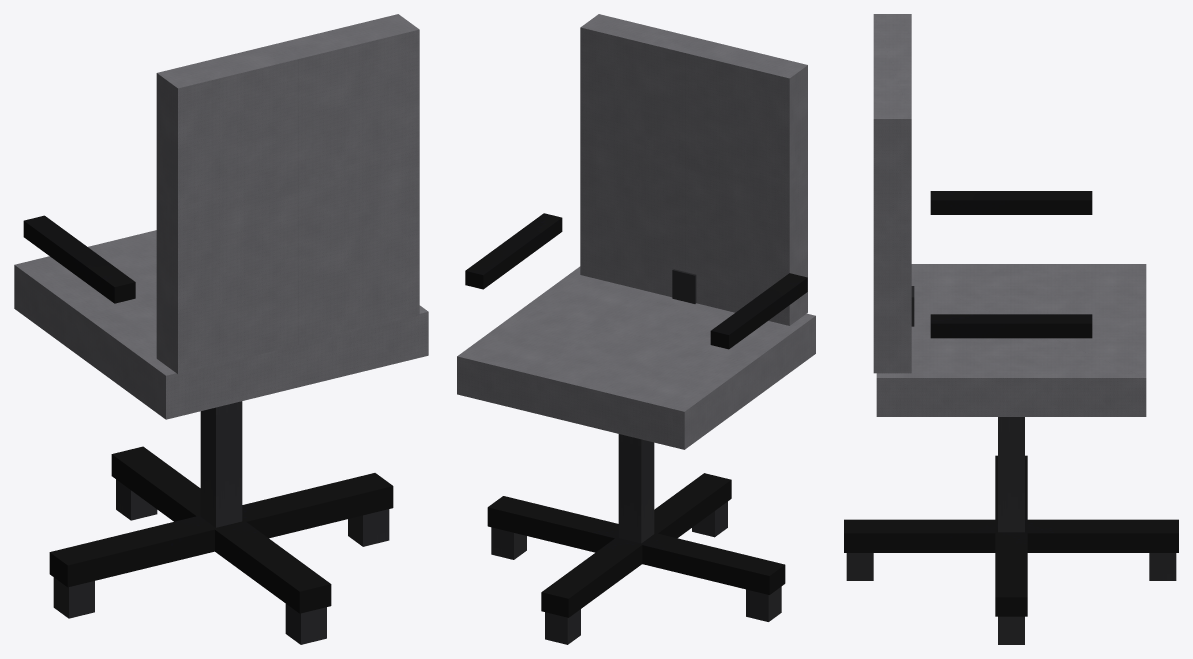
3 views of the same model, side by side, from view 1: azimuth 30°, elevation 25°; view 2: azimuth 150°, elevation 25°; view 3: azimuth 270°, elevation 25° (orthographic). The views are drawn at different scales.
Visible parts, largest first — view 1: OfficeChair_Game; view 2: OfficeChair_Game; view 3: OfficeChair_Game.
Part boxes in pixels (x1=…): OfficeChair_Game: x1=14, y1=14, x2=428, y2=644; OfficeChair_Game: x1=457, y1=14, x2=815, y2=644; OfficeChair_Game: x1=844, y1=14, x2=1178, y2=644.
Bounding box in the file's own units: 0.62 × 1.04 × 0.62.
3 materials, 3 textured.
